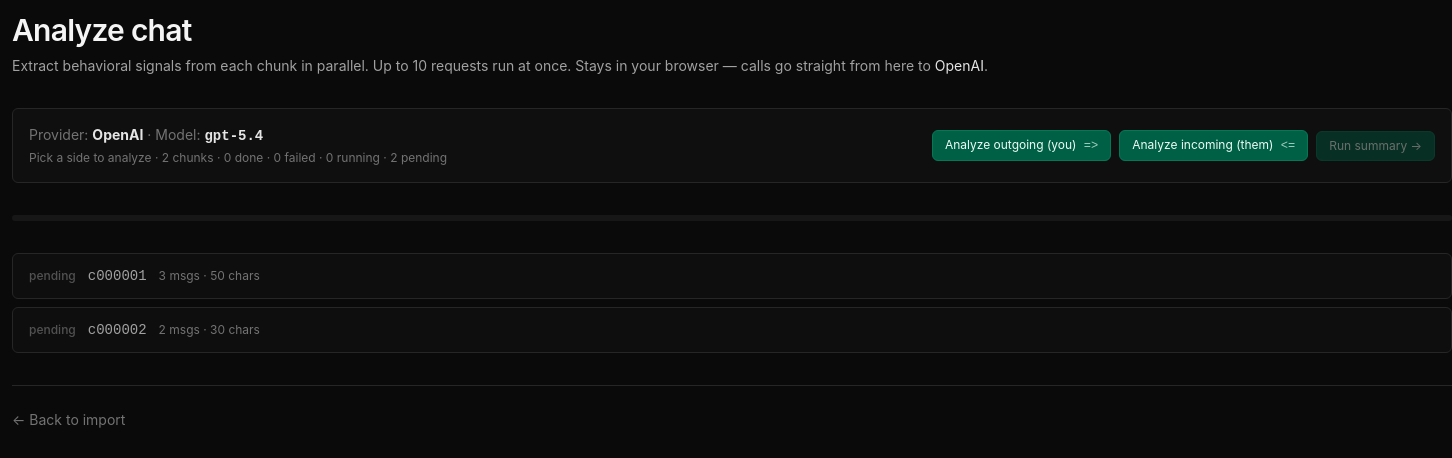
Test case: Analyze › shows error status and Retry button when extraction fails
The width and height of the screenshot is (1452, 458).
Click the button "Analyze outgoing (you) =>" at (1022, 146), box [932,130,1111,161]
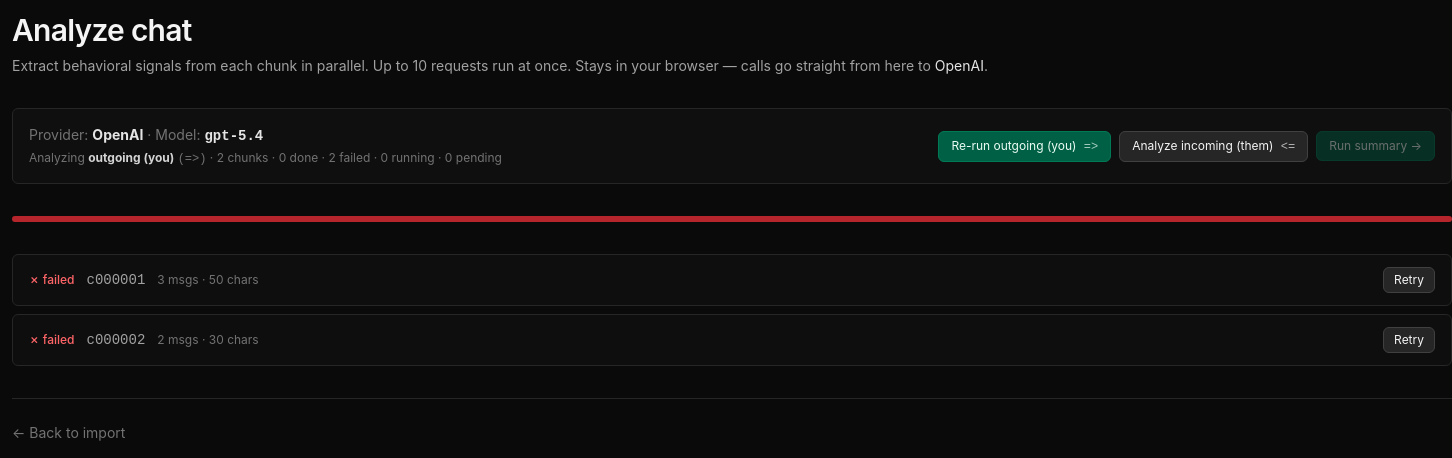
Expected: the text "✗ failed" is shown 2 times, [29,272,74,288]; [29,332,74,348]
Now the number of buttons "Retry" is 2, box [1383,267,1435,293]; [1383,327,1435,353]
